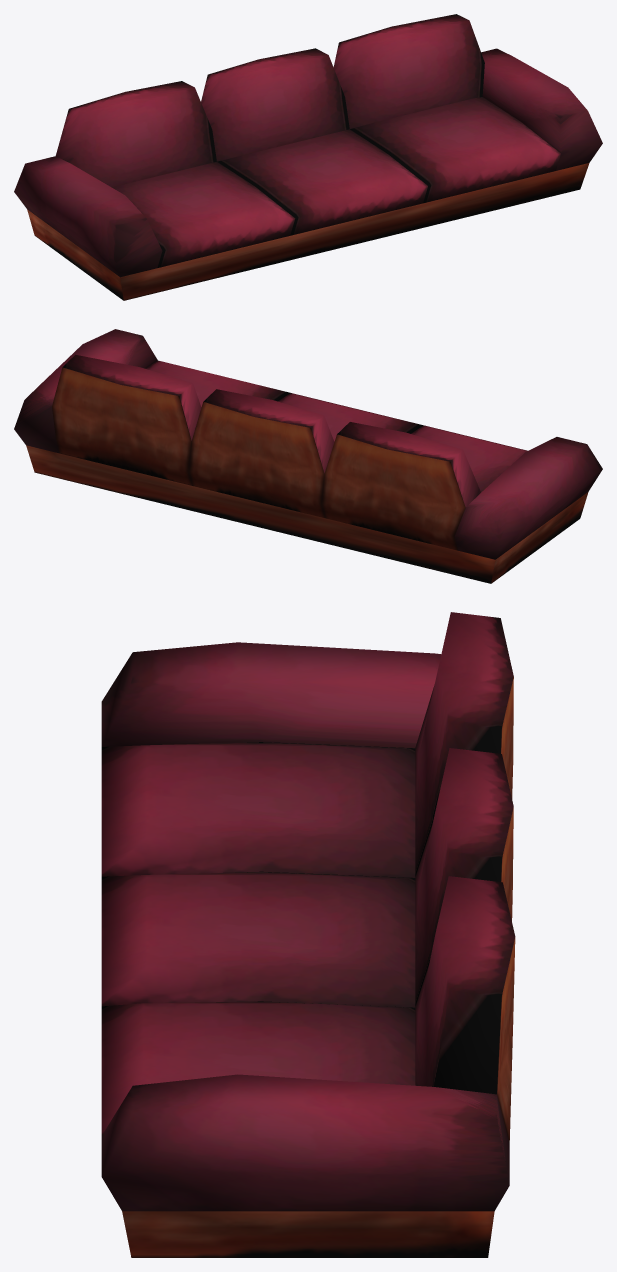
The model's file is disco_sofa_3.DAE.
3 views of the same model, one above another, from view 1: azimuth 30°, elevation 25°; view 2: azimuth 150°, elevation 25°; view 3: azimuth 270°, elevation 25° (orthographic). The views are drawn at different scales.
Parts seen in each view (by area): view 1: Box01; view 2: Box01; view 3: Box01.
Boxes of the visible parts, bbox=[...] form: Box01: bbox=[14, 14, 602, 300]; Box01: bbox=[14, 329, 602, 583]; Box01: bbox=[101, 612, 515, 1257].
Size of the model in its own units: 3.55 by 0.8256 by 1.31.
